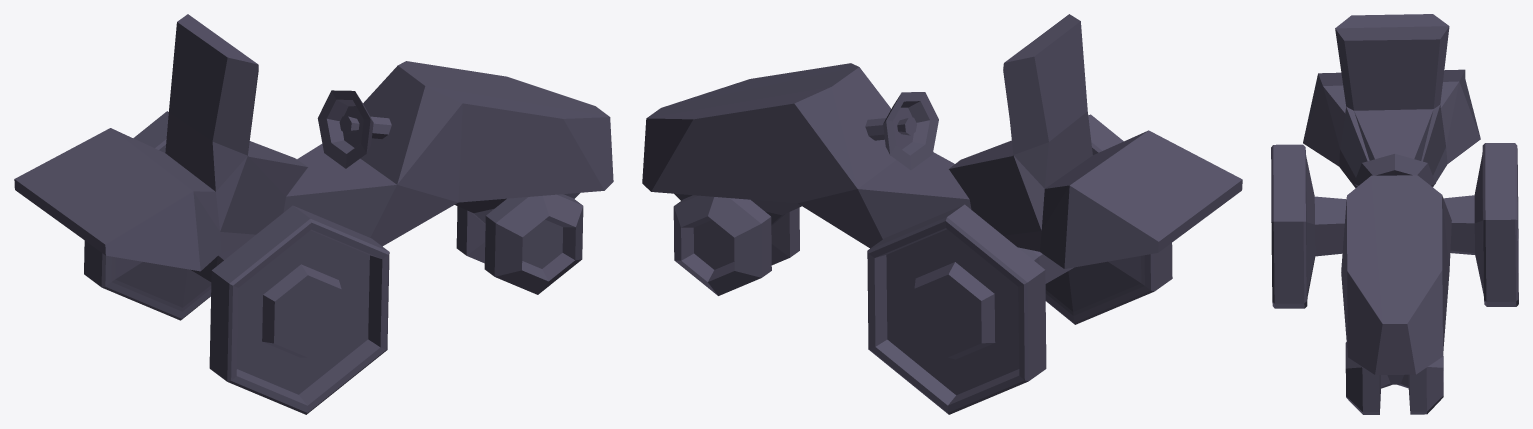
File: Tractor.fbx
The picture shows the model from 3 angles, left to right: view 1: azimuth 30°, elevation 25°; view 2: azimuth 150°, elevation 25°; view 3: azimuth 270°, elevation 25°; orthographic projection. The views are drawn at different scales.
Visible parts, largest first — view 1: pCube43; view 2: pCube43; view 3: pCube43.
Boxes of the visible parts, box(x1,y1,x2,y2) form: pCube43: box(14, 14, 613, 414); pCube43: box(642, 14, 1242, 414); pCube43: box(1271, 14, 1518, 414).
Bounding box in the file's own units: 1536 × 894 × 717.
